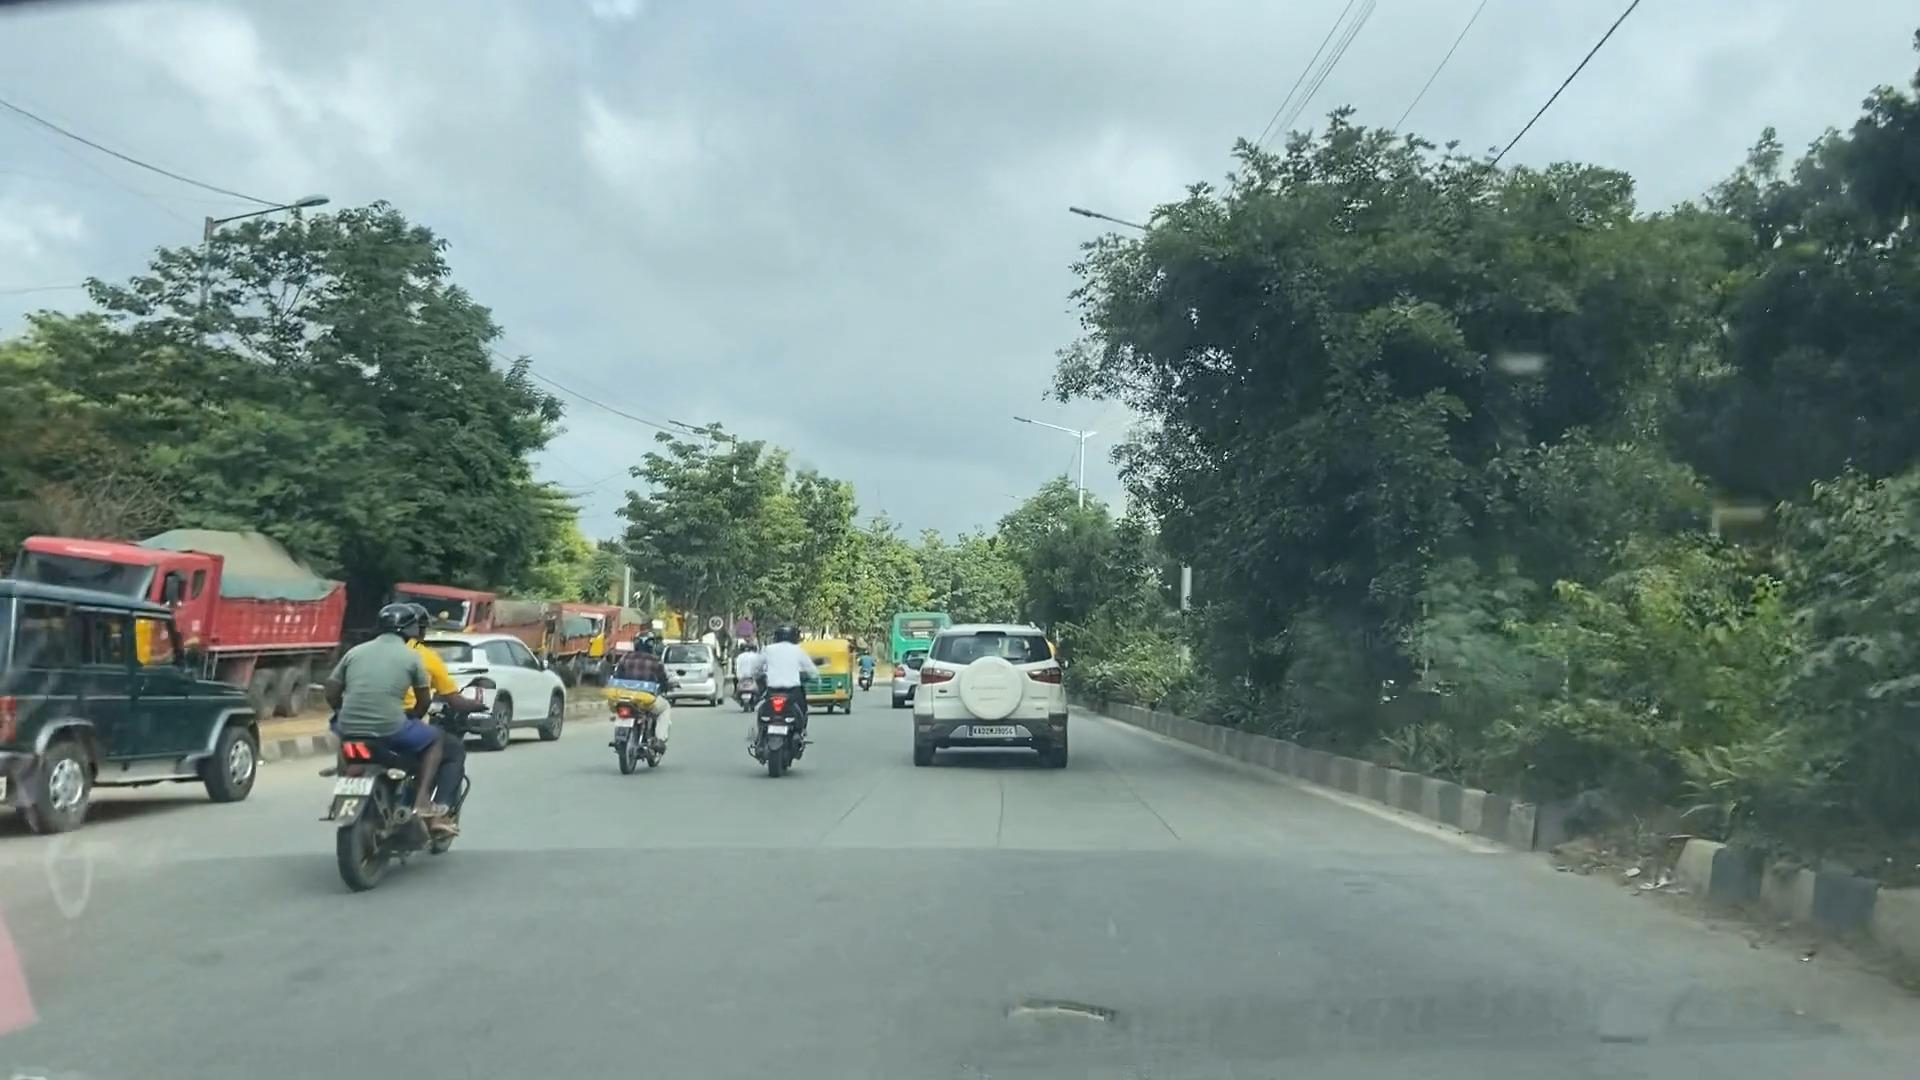HMV: (0, 579, 310, 825)
LMV: (324, 589, 495, 905), (902, 616, 1093, 793), (707, 551, 819, 825), (589, 620, 686, 787)
RoadDamages: (994, 964, 1142, 1069)
